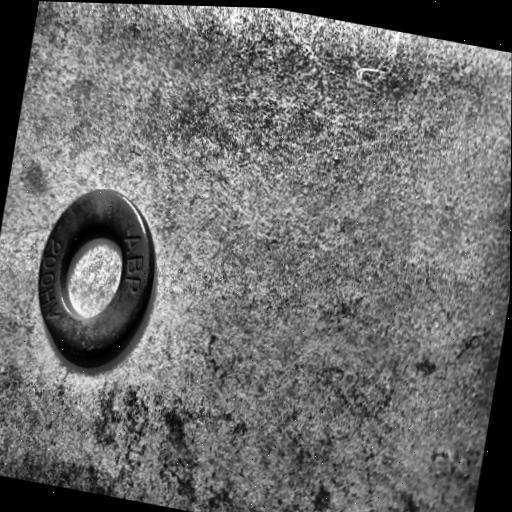Washer: (37, 188, 158, 371)
